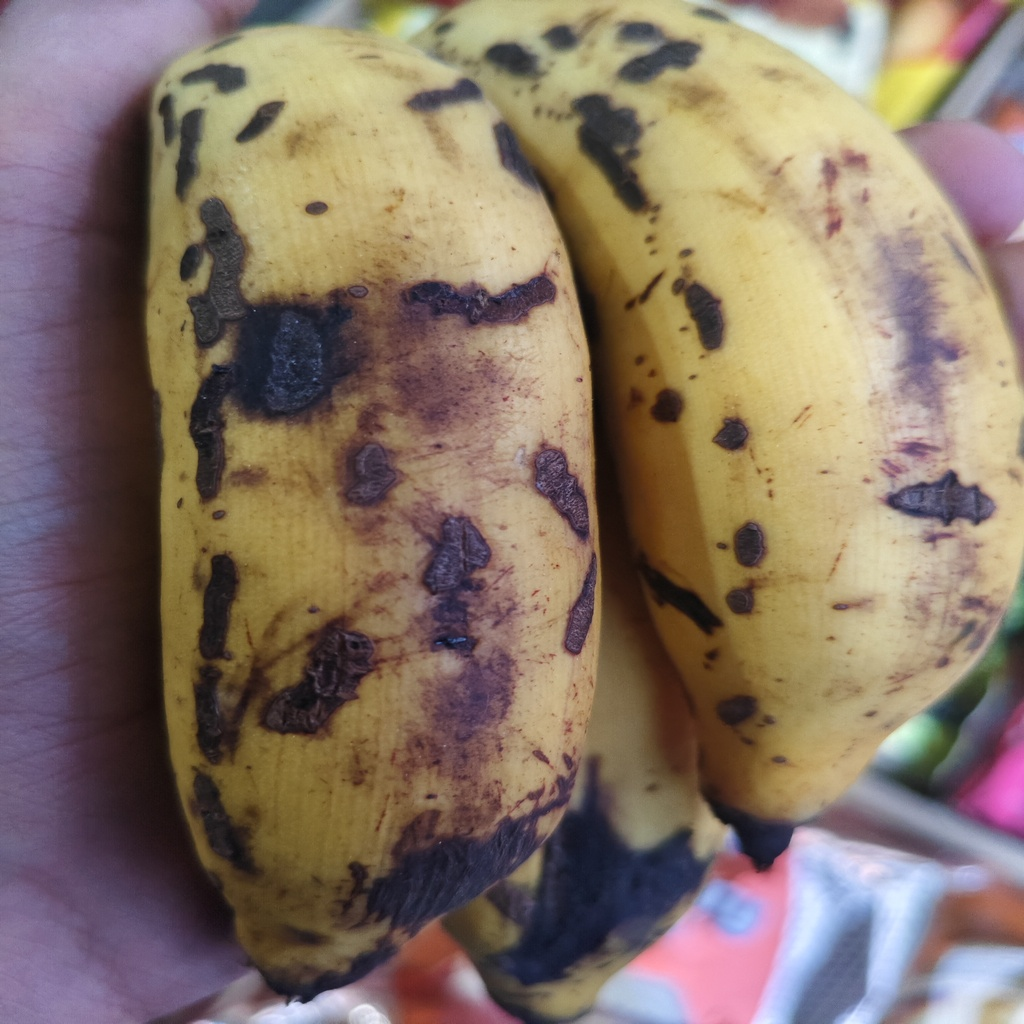unhealthy: (429, 14, 1020, 830), (145, 18, 594, 989)
